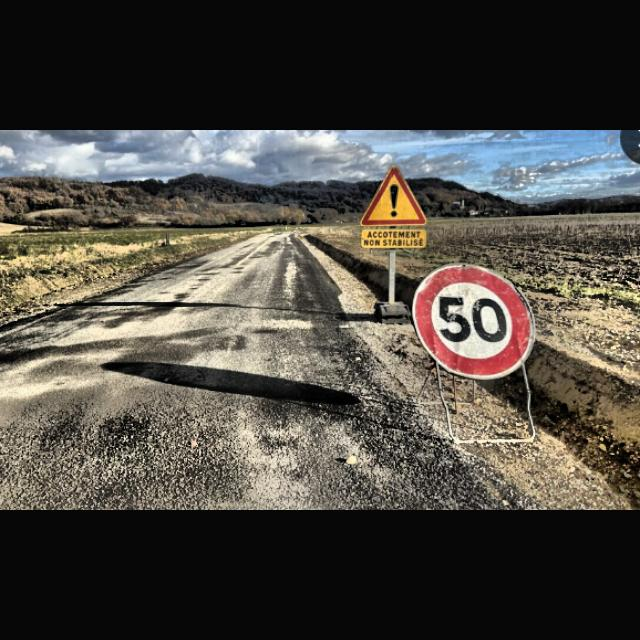speed_50: (412, 264, 536, 382)
